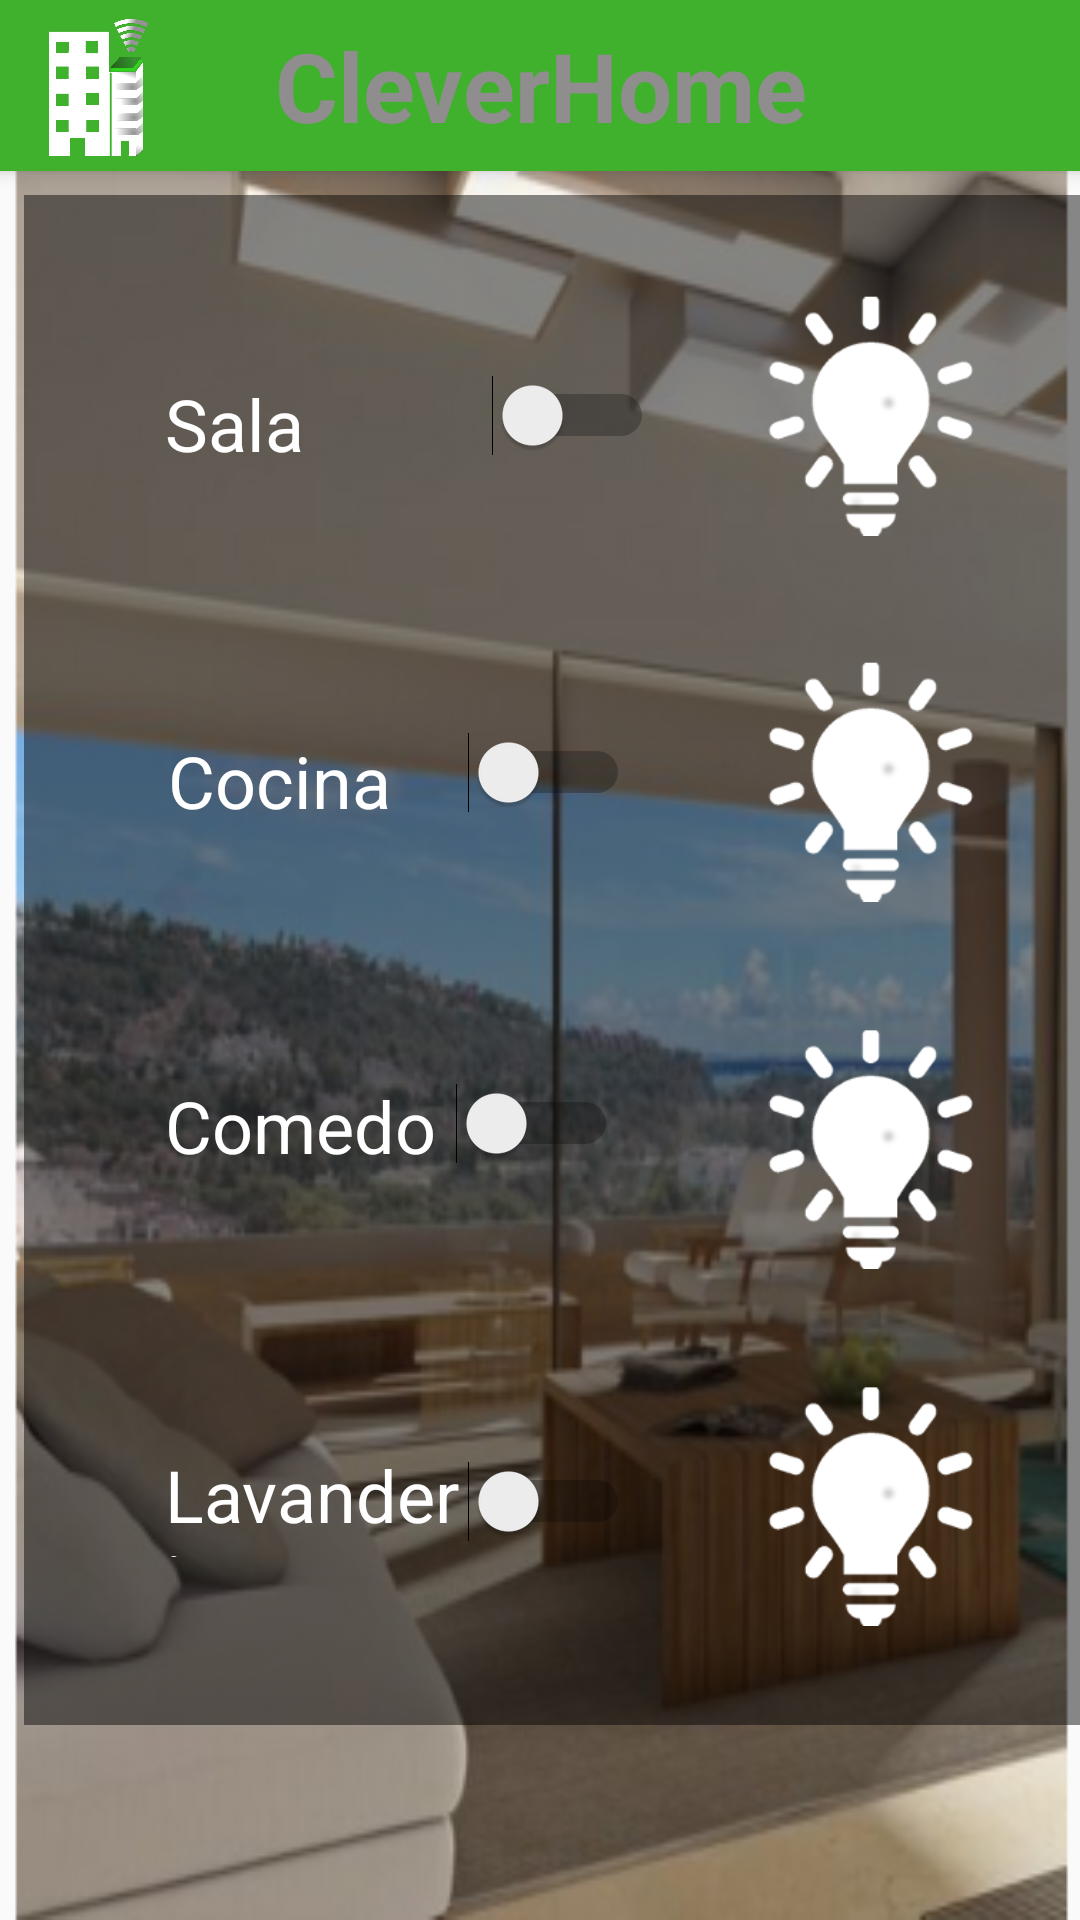

Icon click points for this 1080px x 1920px phone screenshot, format (x=x, y=y):
foco: (x=871, y=414), (x=871, y=780), (x=871, y=1147), (x=871, y=1504)
